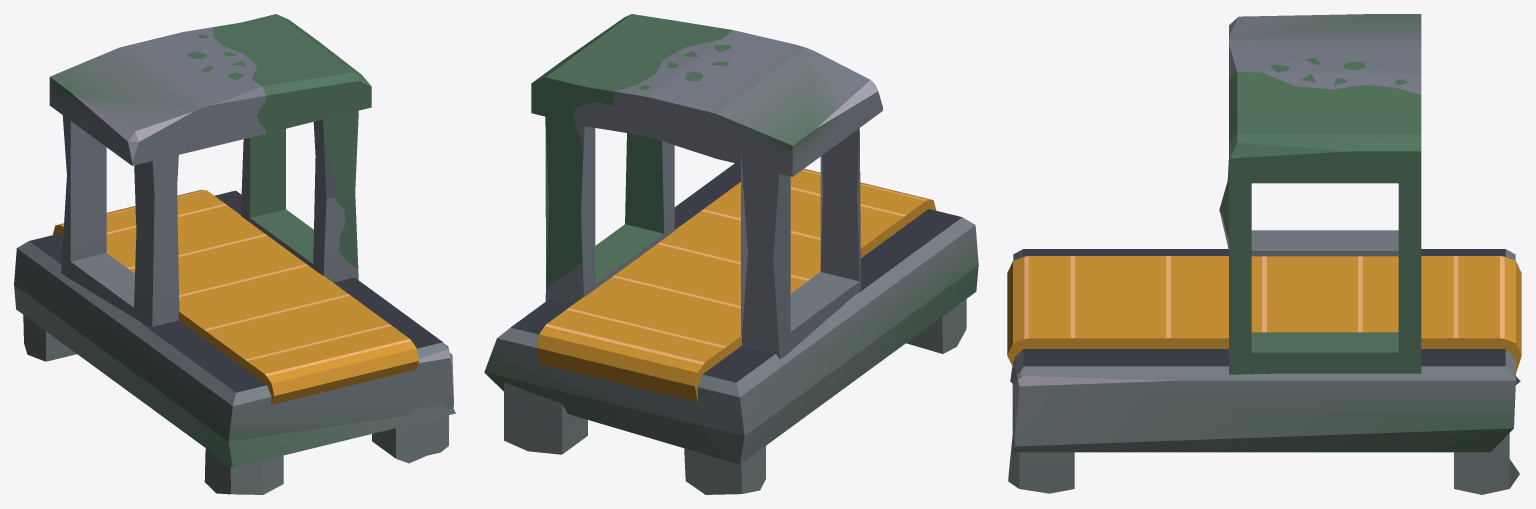
File: Stone processing .fbx
3 views of the same model, side by side, from view 1: azimuth 30°, elevation 25°; view 2: azimuth 150°, elevation 25°; view 3: azimuth 270°, elevation 25° (orthographic). The views are drawn at different scales.
Parts seen in each view (by area): view 1: Cube.010; view 2: Cube.010; view 3: Cube.010.
Boxes of the visible parts, x1=… form: Cube.010: x1=14, y1=14, x2=455, y2=494; Cube.010: x1=484, y1=14, x2=978, y2=494; Cube.010: x1=1007, y1=14, x2=1521, y2=494.
Bounding box in the file's own units: 0.687 × 1.08 × 0.8599.
